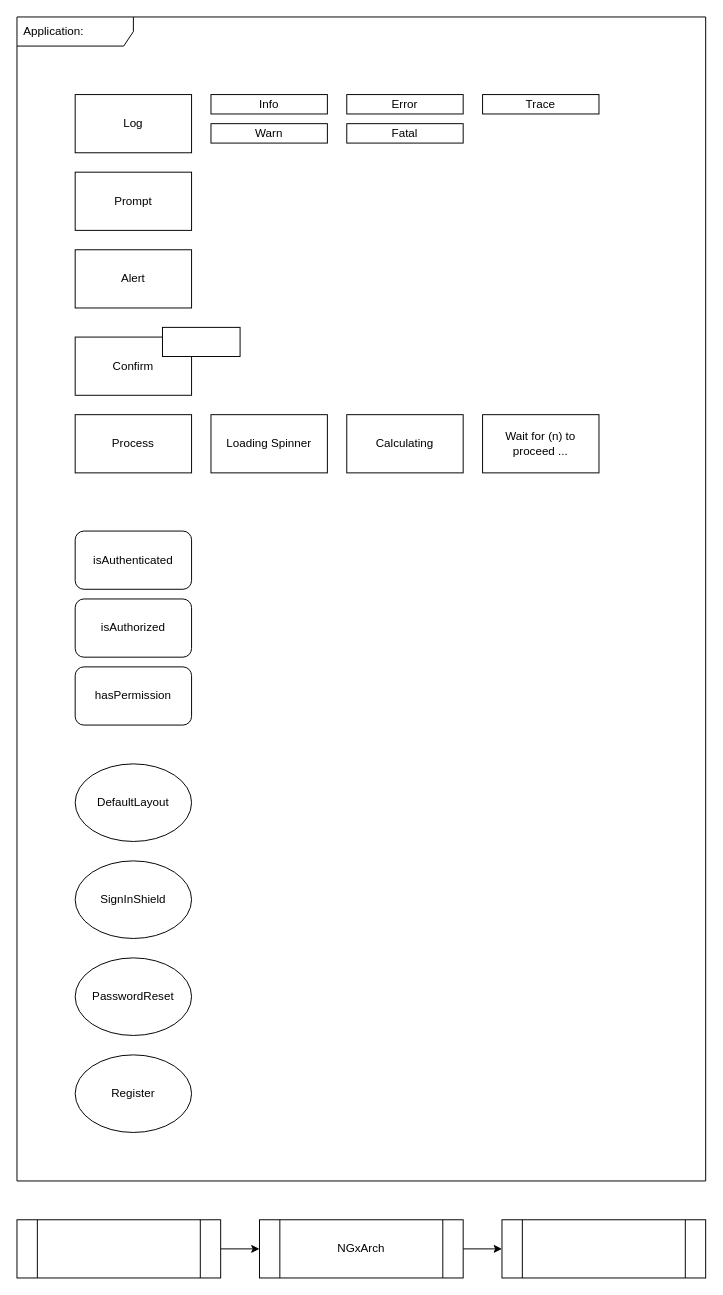
Image size: 723x1295. Some labels were removed from this diagram. The shapes that lost their labels are listed below. From the top down, each one's box as (x1, y1, x2, y2) in pixels, then its label:
(162, 326, 240, 356): Decision
(16, 1219, 221, 1278): Anglify
(501, 1219, 706, 1278): ngneat/reactive-forms
